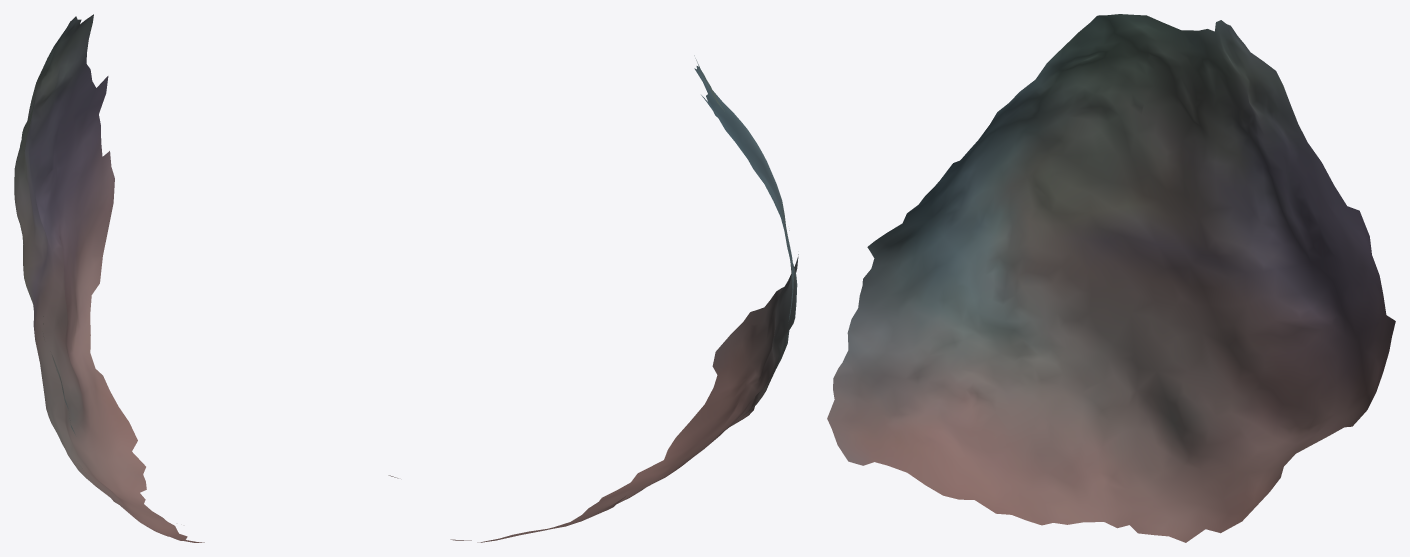
File: LODS_Cloud_global_2.glb
The picture shows the model from 3 angles, left to right: view 1: azimuth 30°, elevation 25°; view 2: azimuth 150°, elevation 25°; view 3: azimuth 270°, elevation 25°; orthographic projection. The views are drawn at different scales.
Parts seen in each view (by area): view 1: LOD0; view 2: LOD0; view 3: LOD0.
Boxes of the visible parts, x1=… form: LOD0: x1=14, y1=14, x2=204, y2=542; LOD0: x1=388, y1=55, x2=798, y2=542; LOD0: x1=827, y1=14, x2=1395, y2=542.
Size of what is drawn, in the model's own units: 0.126 by 0.2318 by 0.2418.
